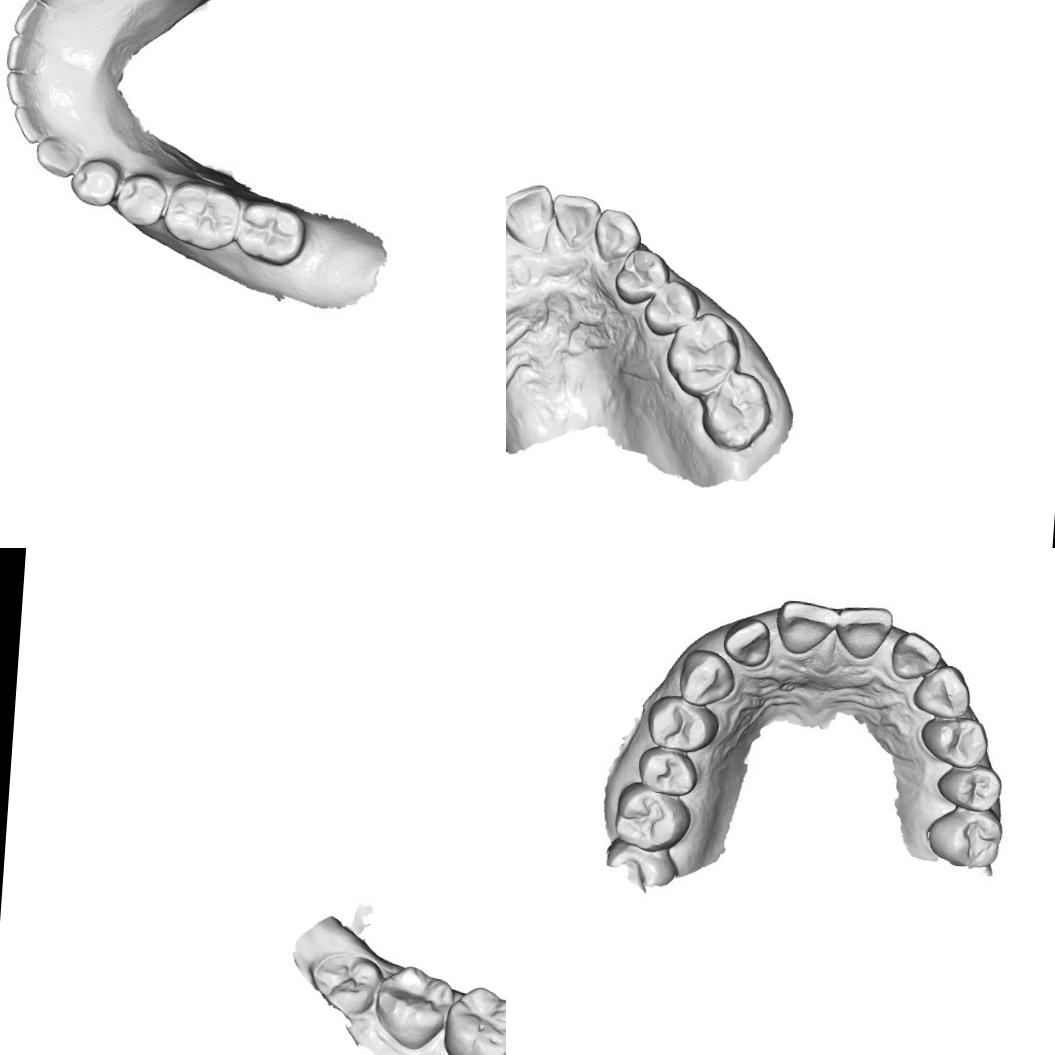canine: (670, 643, 738, 706), (590, 204, 644, 266), (914, 667, 969, 715), (36, 135, 84, 176), (34, 0, 86, 14)
incisor: (506, 179, 556, 256), (835, 604, 892, 664), (548, 190, 603, 250), (776, 601, 837, 653), (888, 628, 939, 678), (12, 105, 74, 144), (726, 618, 772, 666), (6, 70, 54, 109), (11, 1, 55, 42), (5, 36, 50, 75)
molar: (371, 961, 455, 1053), (661, 308, 744, 400), (603, 778, 697, 856), (696, 367, 776, 454), (162, 180, 246, 253), (925, 804, 1005, 872), (308, 948, 386, 1016), (438, 983, 506, 1055), (238, 200, 300, 258)
premolar: (640, 274, 704, 340), (611, 244, 672, 307), (934, 758, 1004, 810), (637, 745, 699, 800), (650, 698, 716, 748), (928, 718, 984, 766), (119, 175, 171, 224), (68, 164, 118, 204)
